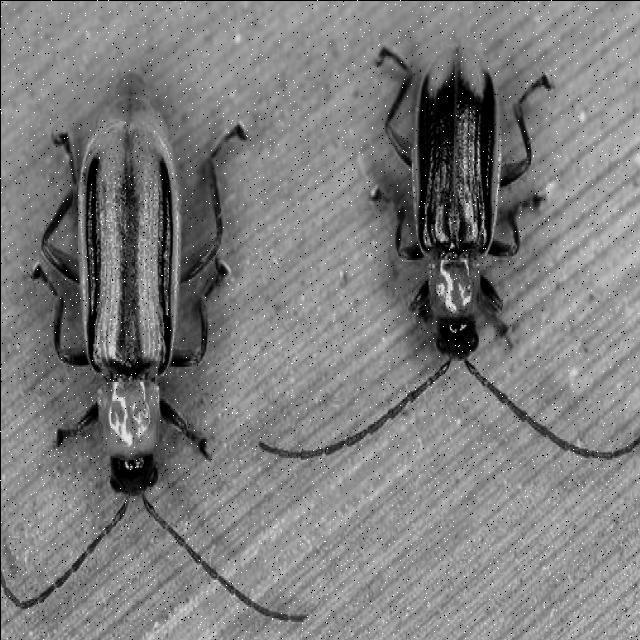trips: (0, 75, 304, 622), (259, 44, 640, 463)
